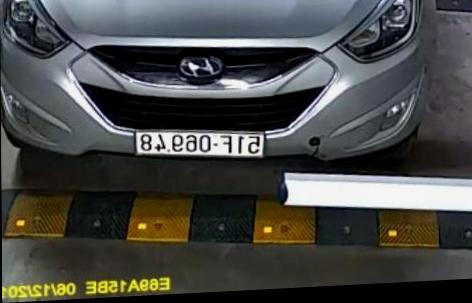License_Plate: (130, 116, 270, 173)
